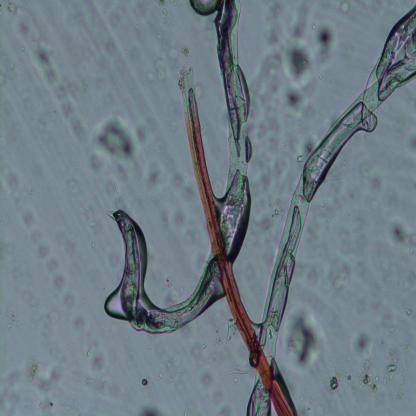Air bubble: (103, 285, 127, 326), (190, 0, 219, 18)
Background material: (18, 215, 79, 315), (43, 100, 114, 184), (278, 18, 336, 112), (134, 162, 190, 228), (284, 305, 327, 373), (5, 279, 49, 338), (318, 249, 364, 300), (90, 115, 139, 160), (70, 315, 103, 380), (25, 358, 63, 394), (96, 11, 124, 58), (52, 84, 89, 118), (386, 213, 416, 252), (69, 197, 103, 231), (31, 44, 55, 83), (359, 172, 385, 206), (6, 2, 30, 38), (358, 357, 381, 392), (382, 350, 400, 389), (378, 307, 400, 338), (154, 355, 178, 383), (352, 327, 372, 359), (213, 322, 238, 346), (167, 47, 190, 69), (337, 1, 361, 22), (165, 276, 179, 305), (138, 402, 165, 416), (225, 366, 251, 380), (298, 140, 316, 160), (153, 56, 166, 83), (330, 374, 340, 390), (402, 304, 414, 316), (140, 376, 149, 388)
Cellulose filter fibre: (250, 7, 416, 414), (114, 0, 250, 332)
Cotton: (179, 67, 294, 416)
